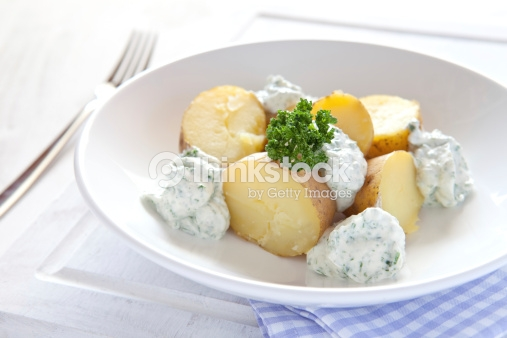boiled potatoes: (213, 152, 317, 243), (185, 87, 259, 155), (363, 162, 424, 236), (337, 80, 422, 133)
